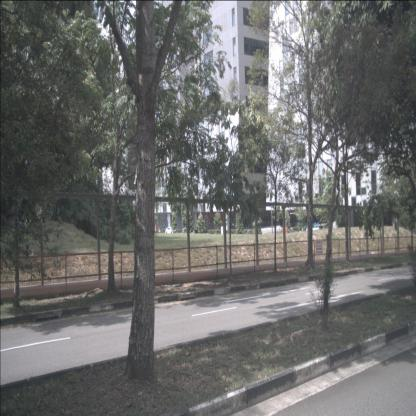barrier: (282, 226, 287, 234), (156, 223, 158, 233)
